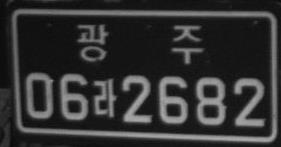0: (24, 70, 54, 119)
2: (234, 75, 265, 127), (121, 74, 152, 123)
6: (157, 75, 189, 123), (59, 72, 89, 121)
8: (196, 75, 227, 126)
광주_D: (76, 23, 204, 65)
라: (92, 78, 117, 118)
